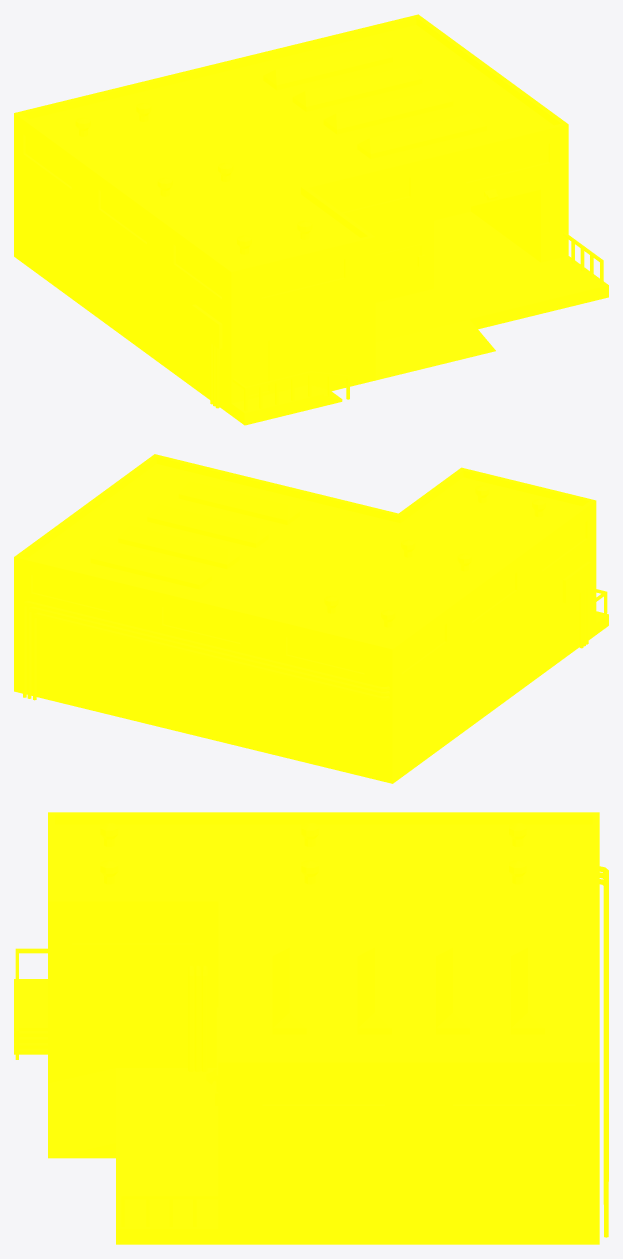
File: industry-warehouse.glb
The picture shows the model from 3 angles, top to bottom: view 1: azimuth 30°, elevation 25°; view 2: azimuth 150°, elevation 25°; view 3: azimuth 270°, elevation 25°; orthographic projection. The views are drawn at different scales.
Parts seen in each view (by area): view 1: industry-warehouse; view 2: industry-warehouse; view 3: industry-warehouse.
Boxes of the visible parts, box(x1,y1,x2,y2) form: industry-warehouse: box(14, 14, 608, 425); industry-warehouse: box(14, 454, 608, 783); industry-warehouse: box(14, 812, 608, 1244).
Bounding box in the file's own units: 17.55 × 6.3 × 17.48.
Materials: 1 (1 with a texture image).
